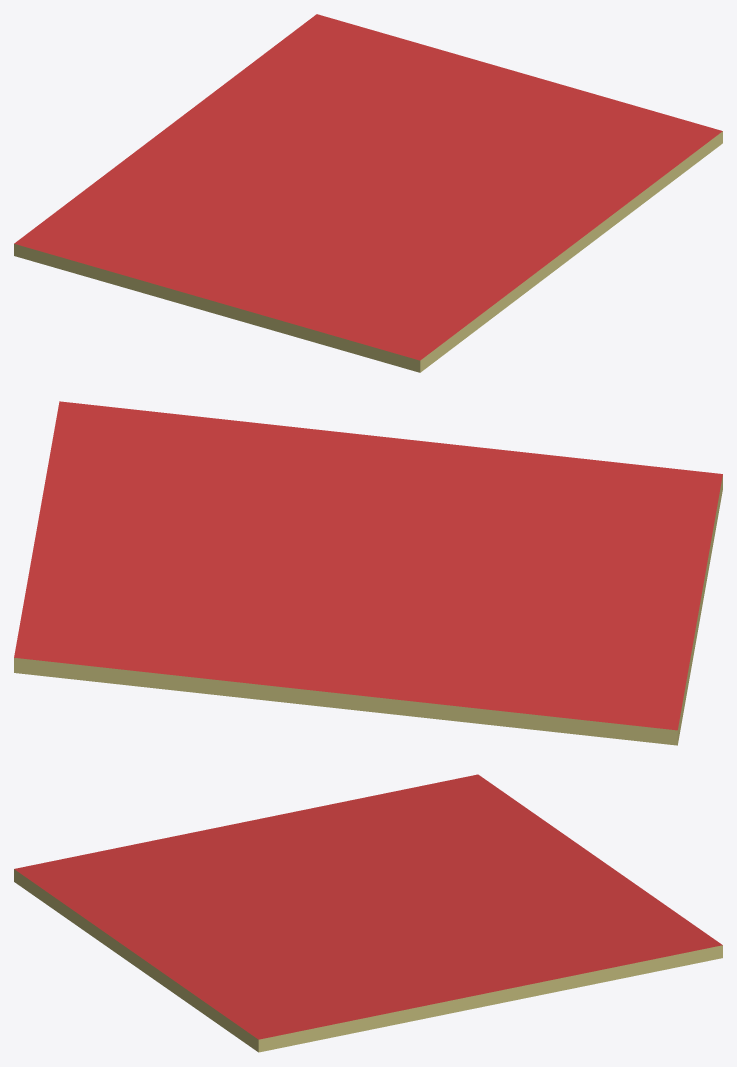
3 renders of one model, top to bottom at view 1: azimuth 30°, elevation 25°; view 2: azimuth 150°, elevation 25°; view 3: azimuth 270°, elevation 25°, orthographic. The views are drawn at different scales.
Size of the model in its own units: 5.16 by 5 by 0.441.
